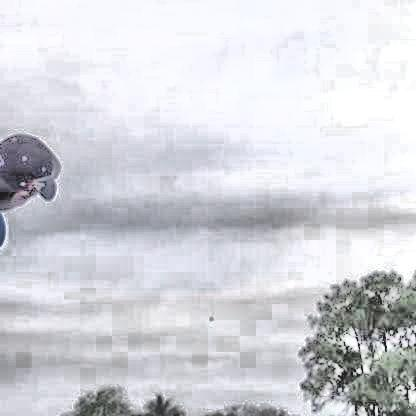golfball: (207, 314, 212, 319)
